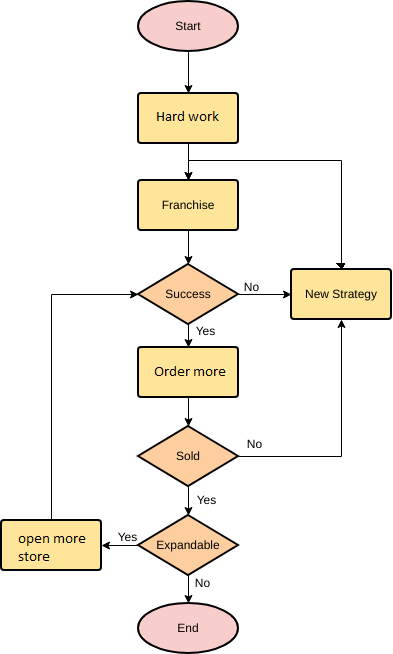arrow: (46, 289, 138, 522), (185, 156, 347, 272), (239, 317, 348, 459), (240, 288, 289, 302), (182, 566, 200, 604), (183, 49, 195, 95), (181, 396, 197, 430), (182, 320, 196, 349), (182, 227, 192, 267), (184, 485, 196, 517), (183, 146, 194, 180)
decision: (135, 262, 244, 327), (132, 423, 241, 488), (135, 512, 242, 578)
process: (133, 176, 243, 233), (134, 88, 242, 146), (134, 344, 243, 401), (288, 264, 393, 323), (1, 517, 106, 574)
terminator: (134, 1, 243, 55), (136, 600, 243, 654)
text: (15, 532, 87, 564), (148, 363, 228, 379), (302, 287, 379, 303), (153, 107, 222, 124), (153, 537, 220, 552), (157, 197, 217, 211), (161, 287, 212, 300), (171, 449, 202, 464), (173, 17, 200, 32), (173, 620, 200, 635), (191, 323, 217, 338), (113, 531, 140, 545), (194, 493, 219, 506), (191, 575, 214, 589), (241, 279, 260, 294), (244, 436, 262, 451)
